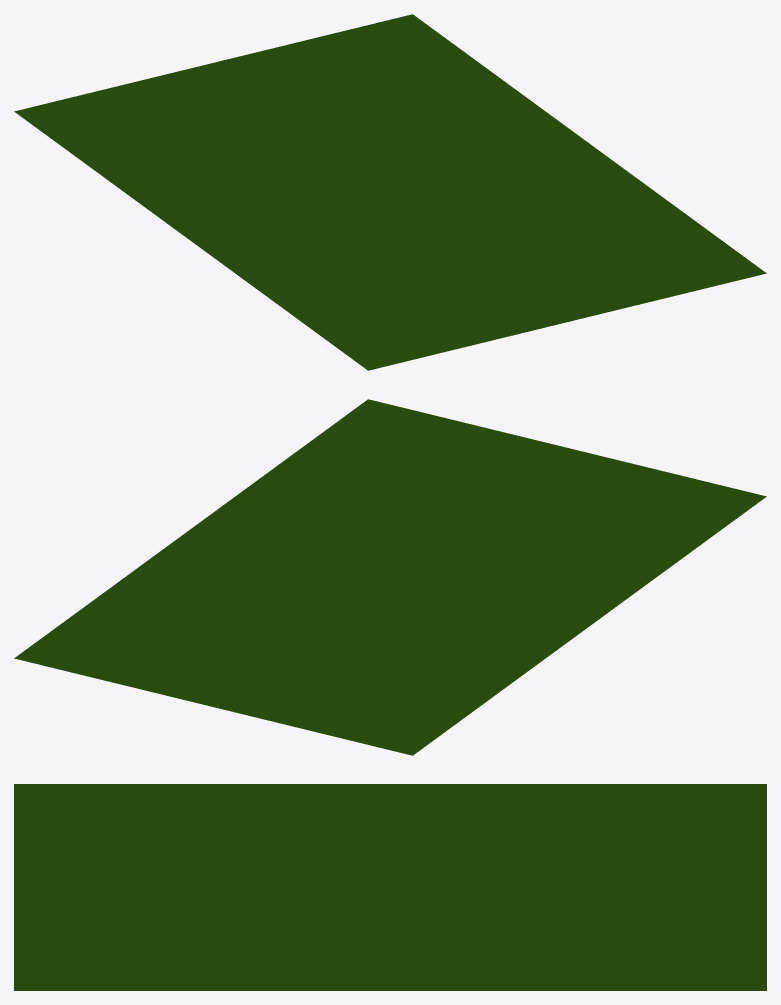
File: tyutrialOutGround.fbx
The picture shows the model from 3 angles, top to bottom: view 1: azimuth 30°, elevation 25°; view 2: azimuth 150°, elevation 25°; view 3: azimuth 270°, elevation 25°; orthographic projection. The views are drawn at different scales.
Parts seen in each view (by area): view 1: pasted__pPlane2; view 2: pasted__pPlane2; view 3: pasted__pPlane2.
Part boxes in pixels (left/top/right/bottom): pasted__pPlane2: left=14, top=14, right=766, bottom=370; pasted__pPlane2: left=14, top=399, right=766, bottom=755; pasted__pPlane2: left=14, top=784, right=766, bottom=990.
Bounding box in the file's own units: 232 × 0 × 357.
